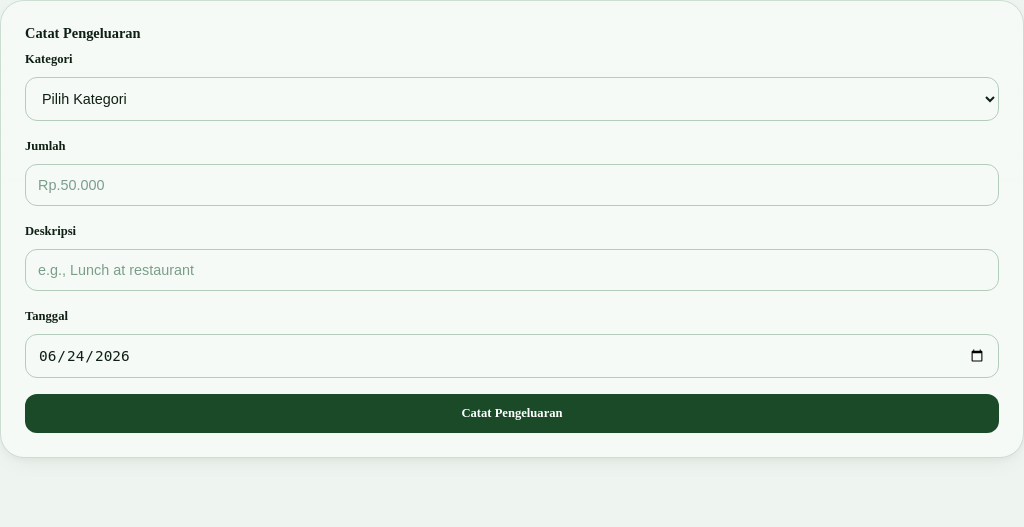
it: ExpenseForm › should display error message when submit fails
The width and height of the screenshot is (1024, 527).
Select "Food" in the dropdown labelled "Kategori". click: (512, 99)
box: [25,77,999,121]
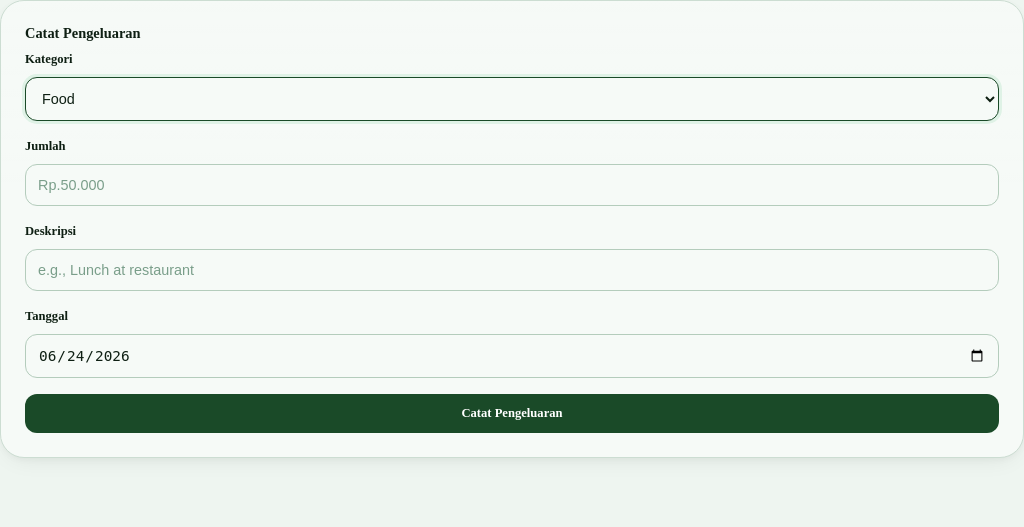
Type "50000" into the field labelled "Jumlah". click: (512, 185)
box: [25,164,999,206]
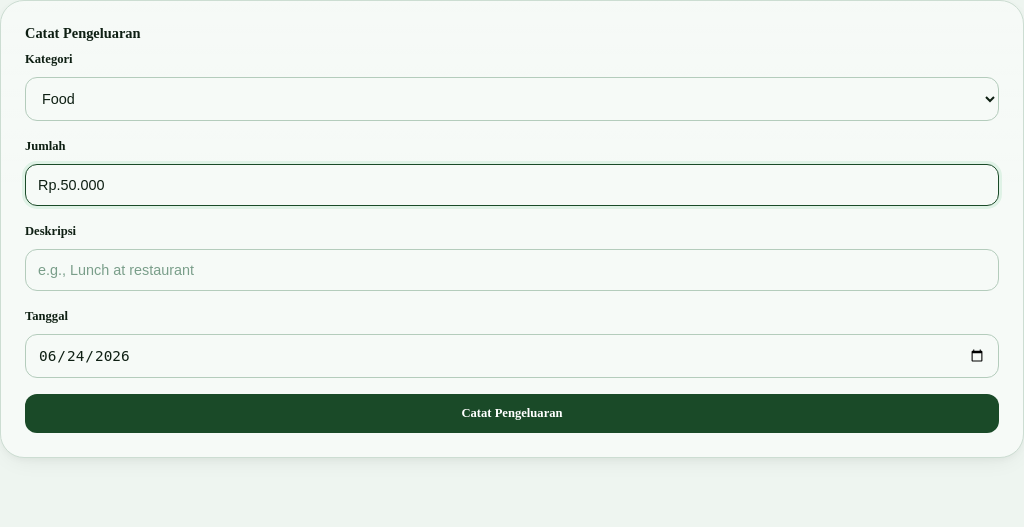
Click the button "Catat Pengeluaran". click: (512, 414)
box: [25,394,999,433]
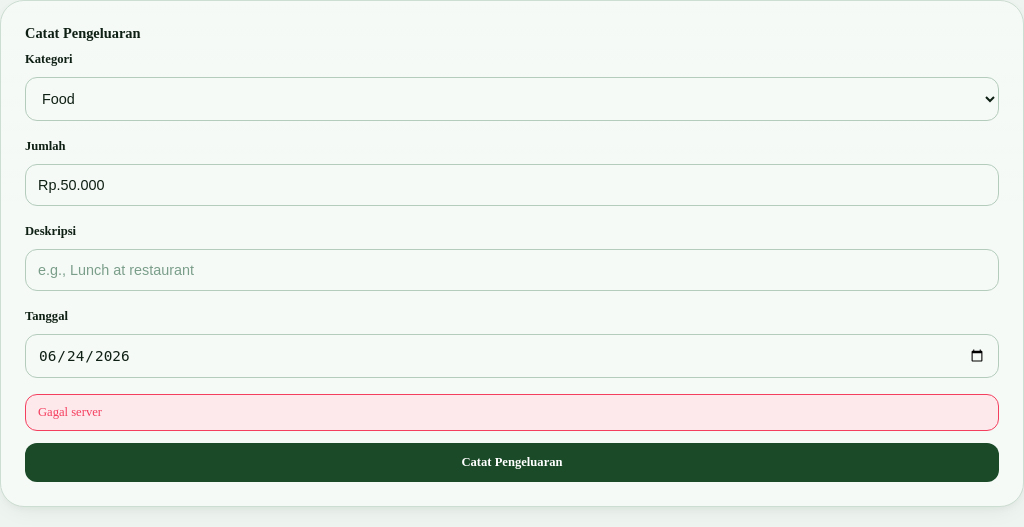
expect the text "Gagal server" is shown: met, box [25,394,999,431]
